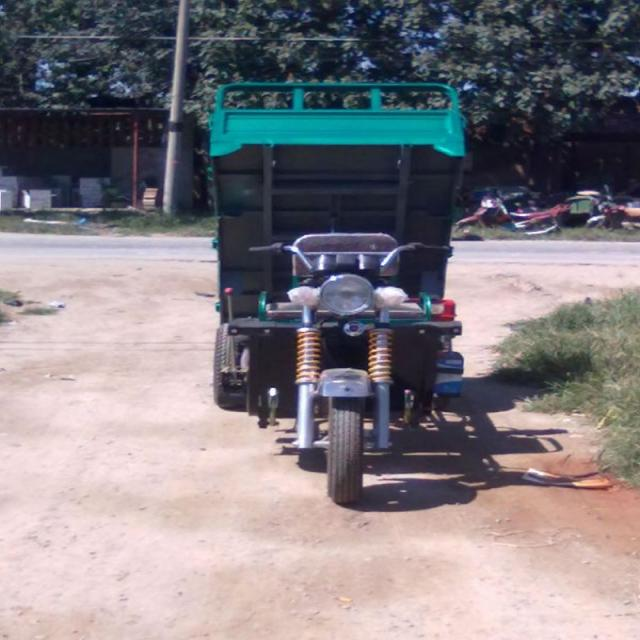motorbike: (458, 190, 570, 240)
pole: (156, 0, 189, 214)
tricycle: (201, 79, 464, 506)
